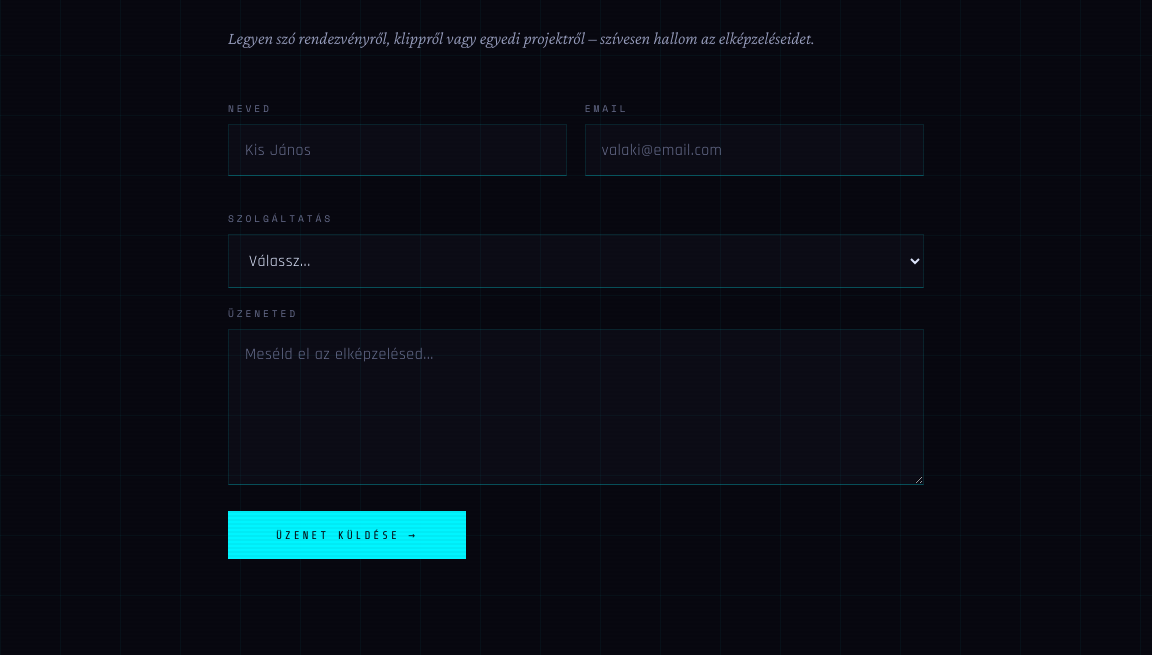
Test: Contact – validáció › üres form – hibaüzenet jelenik meg
(page scrolled)
Click the button "Üzenet küldése →".
click(347, 535)  # box [228, 511, 466, 559]
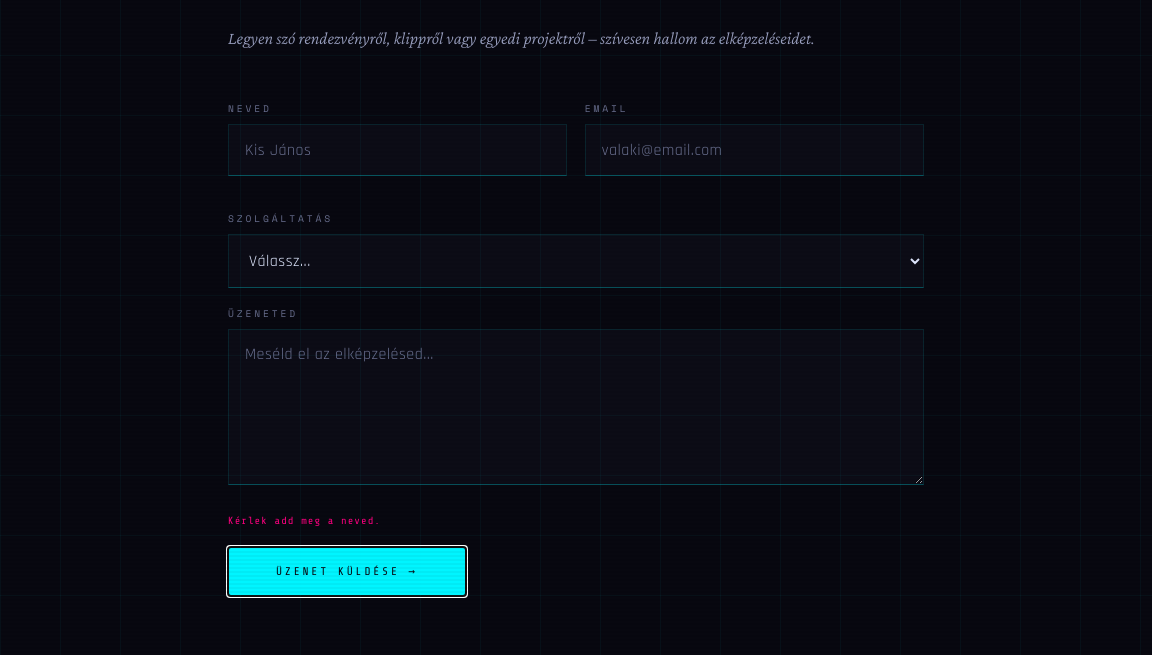
Expected: the text "Kérlek add meg a neved." is shown, [228, 515, 381, 527]
